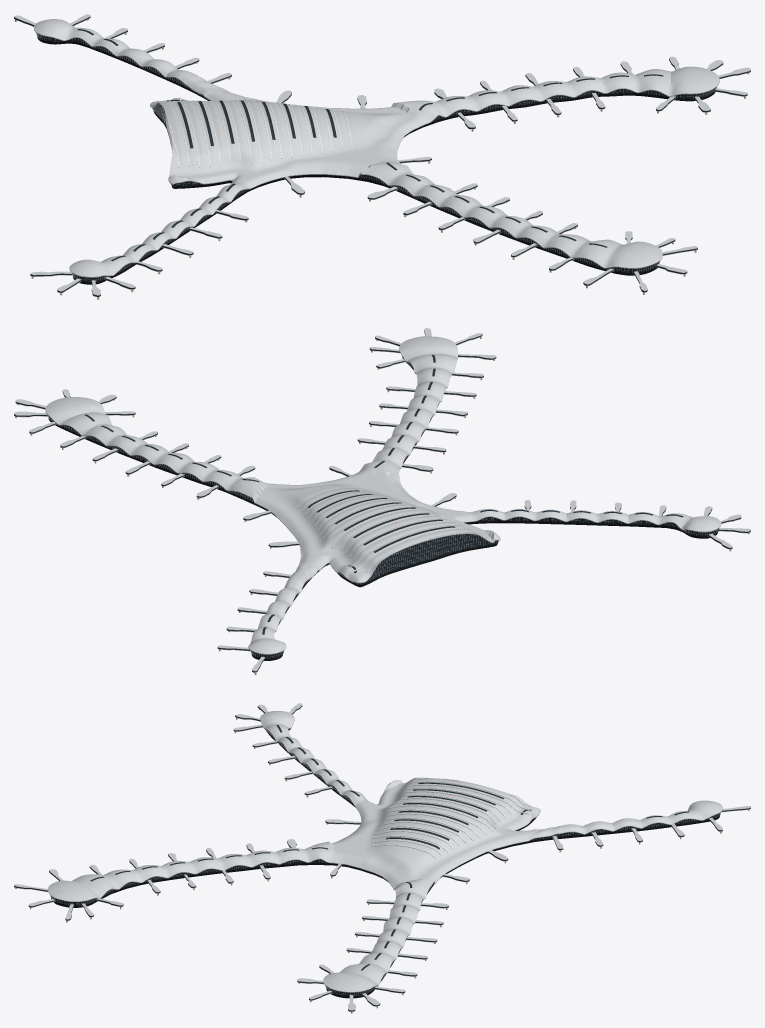
Rendered from OMAA_terminal_a.glb.
3 renders of one model, top to bottom at view 1: azimuth 30°, elevation 25°; view 2: azimuth 150°, elevation 25°; view 3: azimuth 270°, elevation 25°, orthographic. The views are drawn at different scales.
Visible parts, largest first — view 1: TerminalA_Building, TerminalA_Links, TerminalA_Structure, TerminalA_Skylights; view 2: TerminalA_Building, TerminalA_Links, TerminalA_Structure, TerminalA_Skylights; view 3: TerminalA_Building, TerminalA_Links, TerminalA_Structure, TerminalA_Skylights.
Boxes of the visible parts, x1,y1,x2,y2 form: TerminalA_Building: [34, 19, 719, 284]; TerminalA_Links: [14, 14, 750, 299]; TerminalA_Structure: [36, 33, 717, 281]; TerminalA_Skylights: [77, 29, 663, 261]; TerminalA_Building: [45, 336, 721, 660]; TerminalA_Links: [14, 328, 750, 674]; TerminalA_Structure: [47, 356, 719, 658]; TerminalA_Skylights: [84, 355, 683, 634]; TerminalA_Building: [48, 711, 722, 998]; TerminalA_Links: [14, 703, 750, 1013]; TerminalA_Structure: [50, 729, 720, 995]; TerminalA_Skylights: [90, 725, 689, 970].
Size of what is drawn, in the model's own units: 1403 by 53.24 by 1423.
